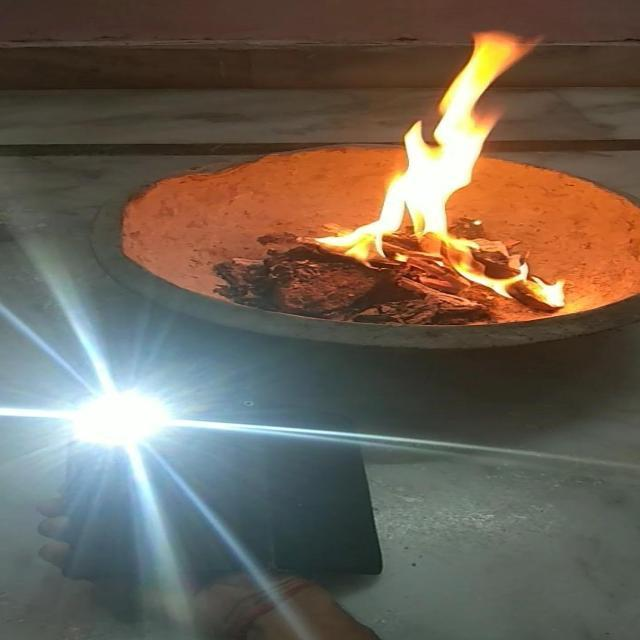smoke: (311, 32, 578, 307)
